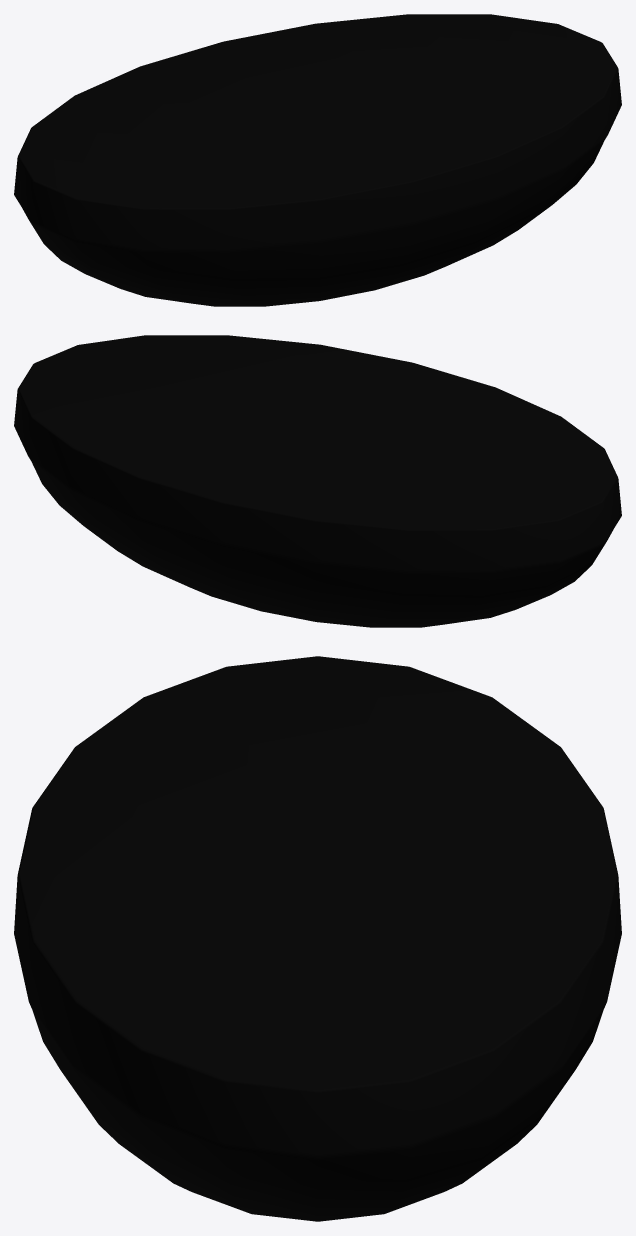
File: stage.fbx
3 renders of one model, top to bottom at view 1: azimuth 30°, elevation 25°; view 2: azimuth 150°, elevation 25°; view 3: azimuth 270°, elevation 25°, orthographic. The views are drawn at different scales.
Parts seen in each view (by area): view 1: pSphere1; view 2: pSphere1; view 3: pSphere1.
Boxes of the visible parts, box(x1,y1,x2,y2) form: pSphere1: box(14, 14, 621, 306); pSphere1: box(14, 335, 621, 627); pSphere1: box(14, 656, 621, 1221).
Bounding box in the file's own units: 2994 × 818 × 1744.
